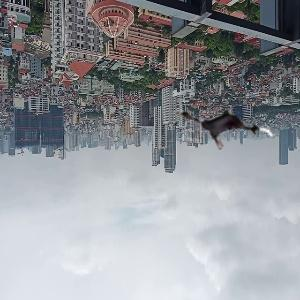drone: (172, 75, 277, 180)
